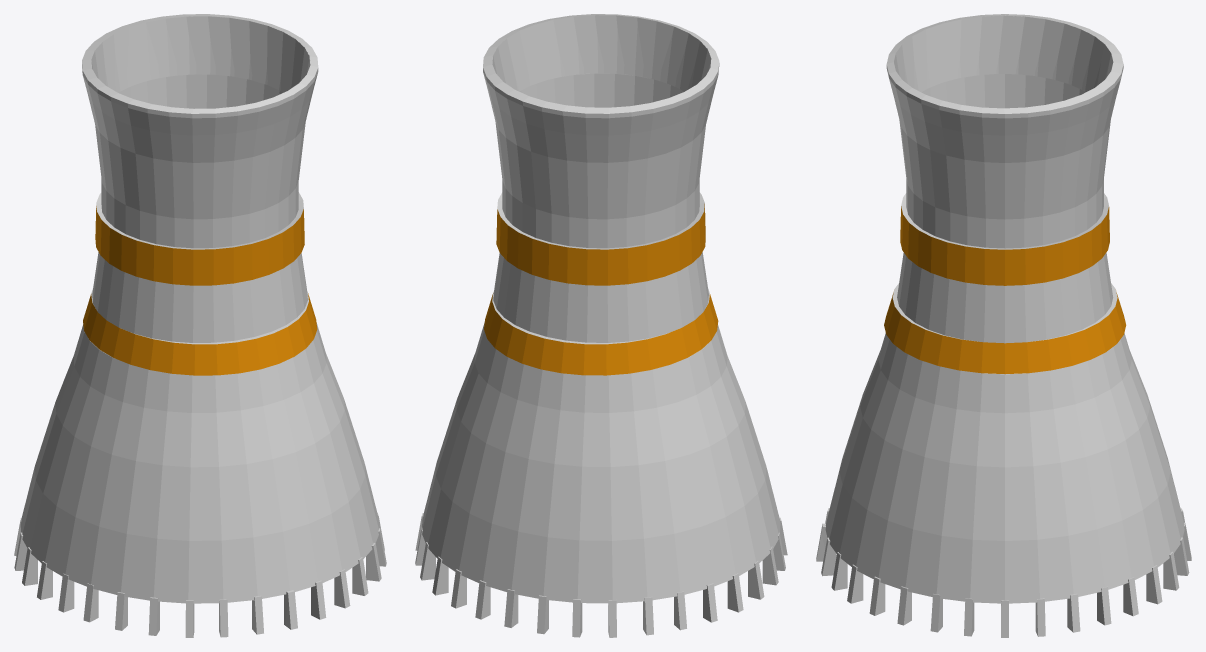
The model's file is cooling_tower.glb.
The picture shows the model from 3 angles, left to right: view 1: azimuth 30°, elevation 25°; view 2: azimuth 150°, elevation 25°; view 3: azimuth 270°, elevation 25°; orthographic projection.
Parts seen in each view (by area): view 1: Cylinder; view 2: Cylinder; view 3: Cylinder.
Part boxes in pixels (x1=…): Cylinder: x1=14, y1=14, x2=386, y2=637; Cylinder: x1=415, y1=14, x2=787, y2=637; Cylinder: x1=816, y1=14, x2=1191, y2=637.
Size of the model in its own units: 6.29 by 9.27 by 6.33.
